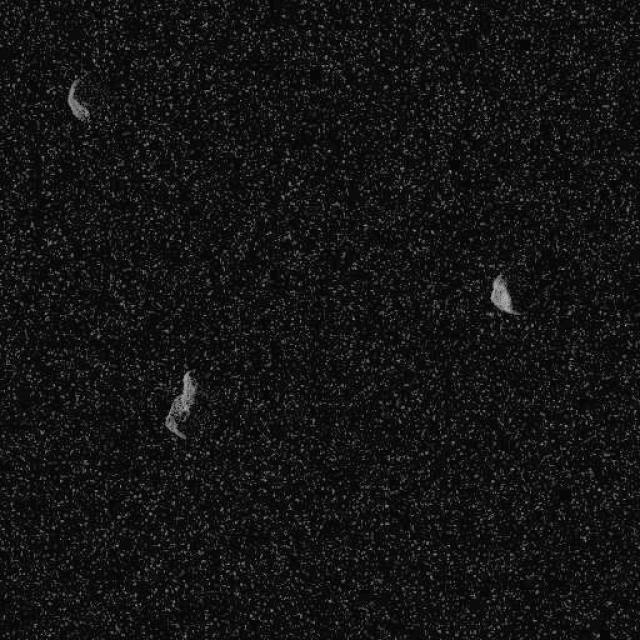D2: (162, 369, 198, 440), (488, 272, 522, 316), (65, 75, 90, 123)
